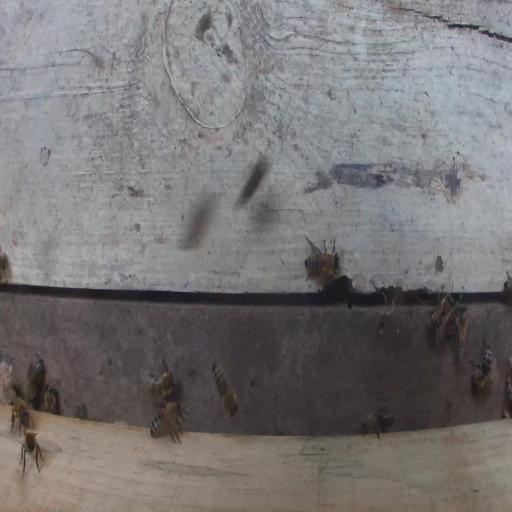bee: (304, 233, 345, 288), (150, 394, 190, 447), (426, 277, 455, 344), (465, 333, 493, 399), (211, 360, 241, 420), (145, 351, 178, 398), (360, 404, 396, 441), (447, 302, 469, 362), (19, 430, 45, 478), (8, 394, 32, 438), (26, 358, 46, 404), (44, 382, 59, 414)
